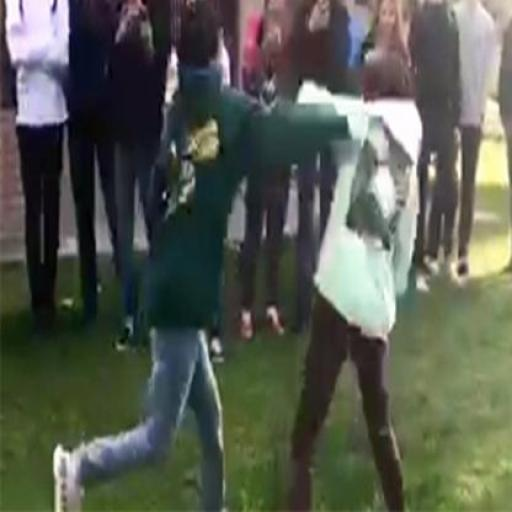Fighting: (54, 4, 424, 511)
